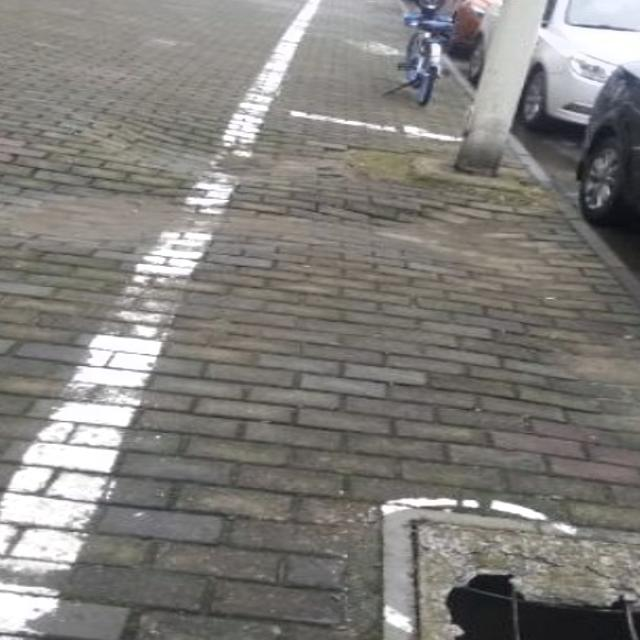broke: (376, 503, 640, 640)
